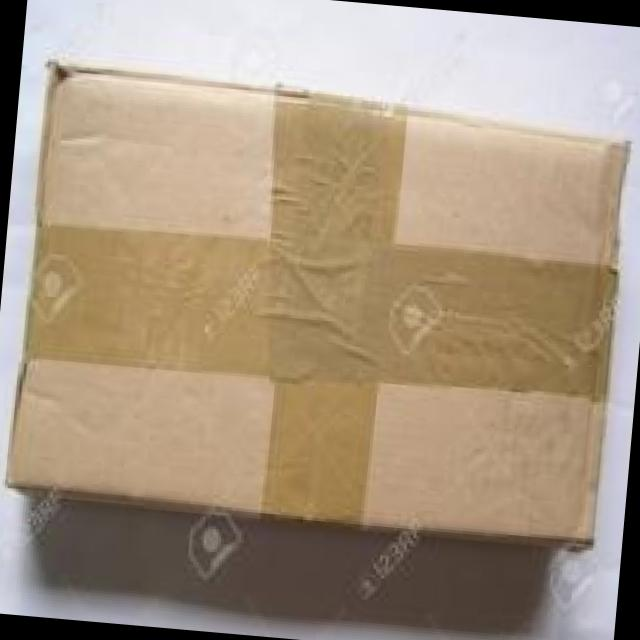box: (61, 68, 584, 545)
tear: (438, 414, 549, 524)
